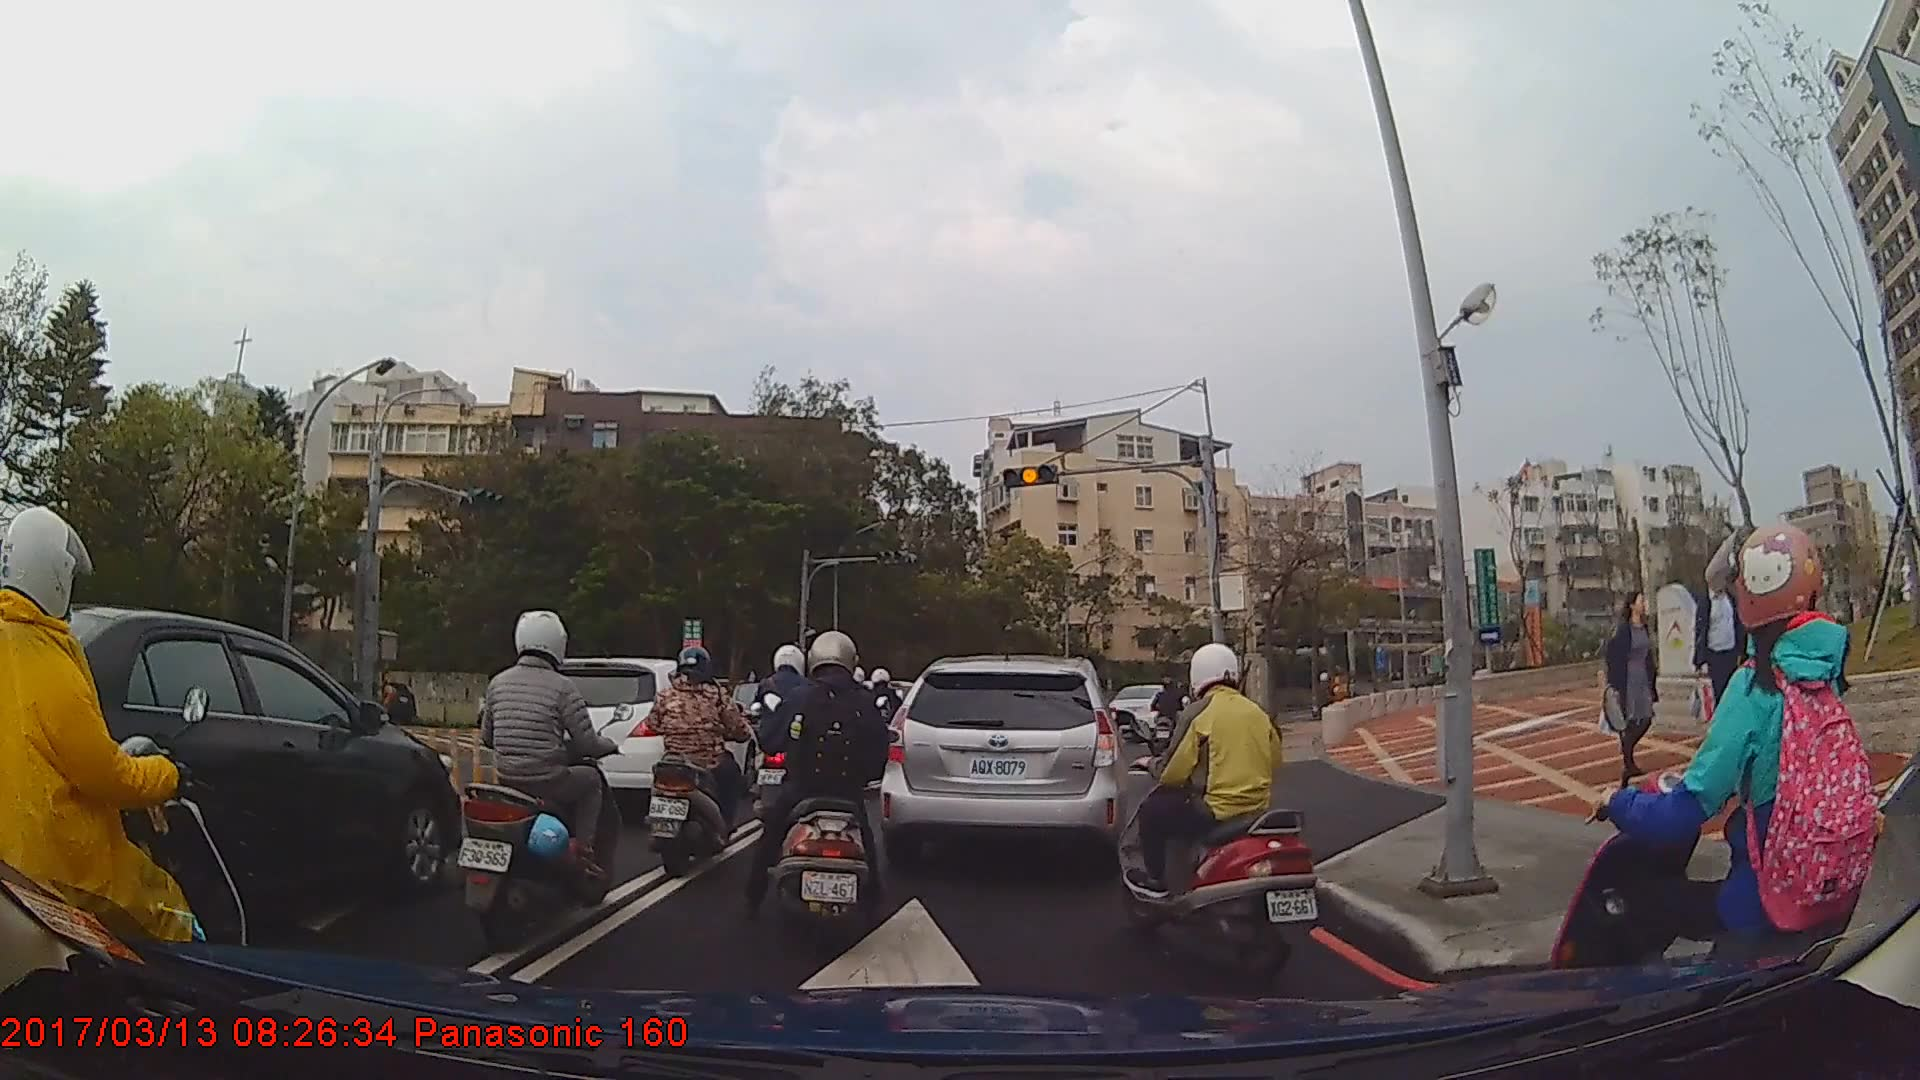pedestrian: (1591, 587, 1665, 792), (1689, 556, 1753, 754)
rider: (1560, 515, 1873, 1067), (1, 509, 273, 1057), (1115, 642, 1319, 977), (452, 607, 619, 952), (753, 630, 896, 954), (643, 645, 756, 876), (746, 639, 832, 841), (1151, 674, 1185, 757)
vehicle: (0, 603, 462, 941), (880, 652, 1130, 865), (522, 656, 761, 817), (1106, 681, 1191, 744)
